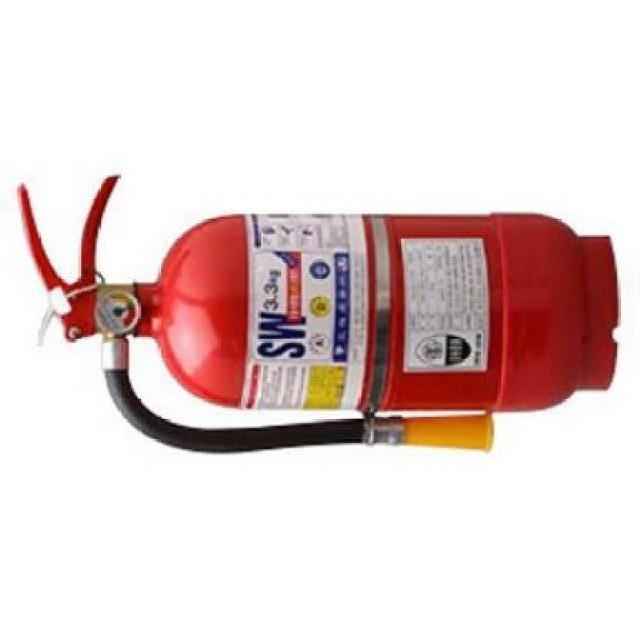fire extinguisher: (17, 174, 620, 454)
